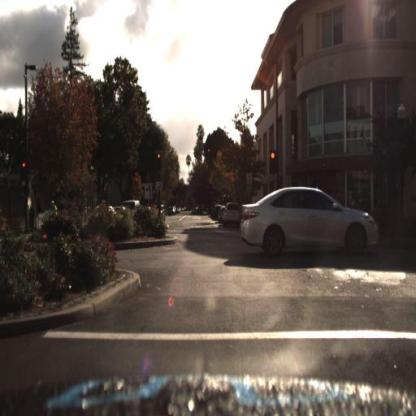biker: (49, 200, 58, 219)
car: (238, 181, 378, 265), (221, 199, 246, 228), (224, 201, 242, 228), (158, 205, 168, 220)
pedestrian: (349, 187, 357, 222), (353, 193, 361, 223)
trafficLight: (21, 157, 29, 178)
trafficLight-Red: (269, 149, 277, 175), (155, 151, 163, 176)
